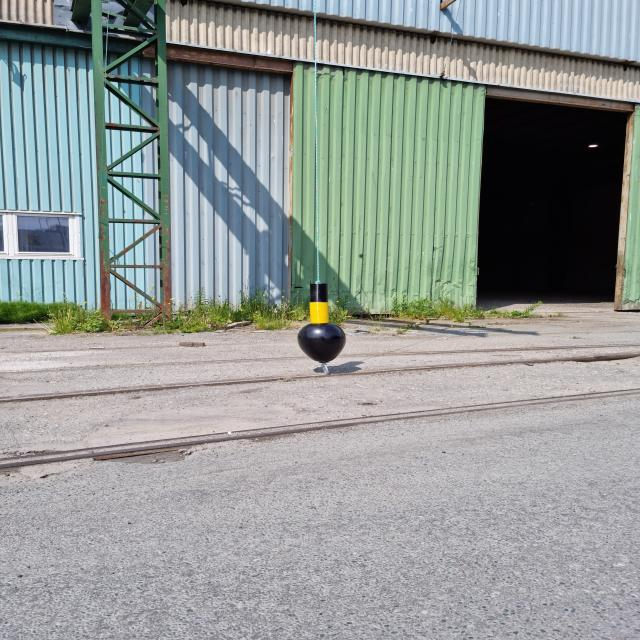east: (297, 283, 347, 363)
